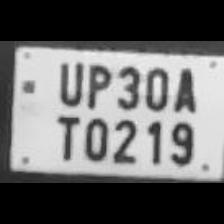0: (78, 112, 110, 162), (140, 61, 170, 111)
1: (139, 115, 165, 165)
2: (108, 113, 139, 163)
3: (112, 60, 140, 110)
9: (166, 115, 196, 165)
A: (168, 63, 200, 113)
P: (82, 59, 110, 109)
T: (48, 110, 80, 162)
U: (52, 57, 83, 106)
